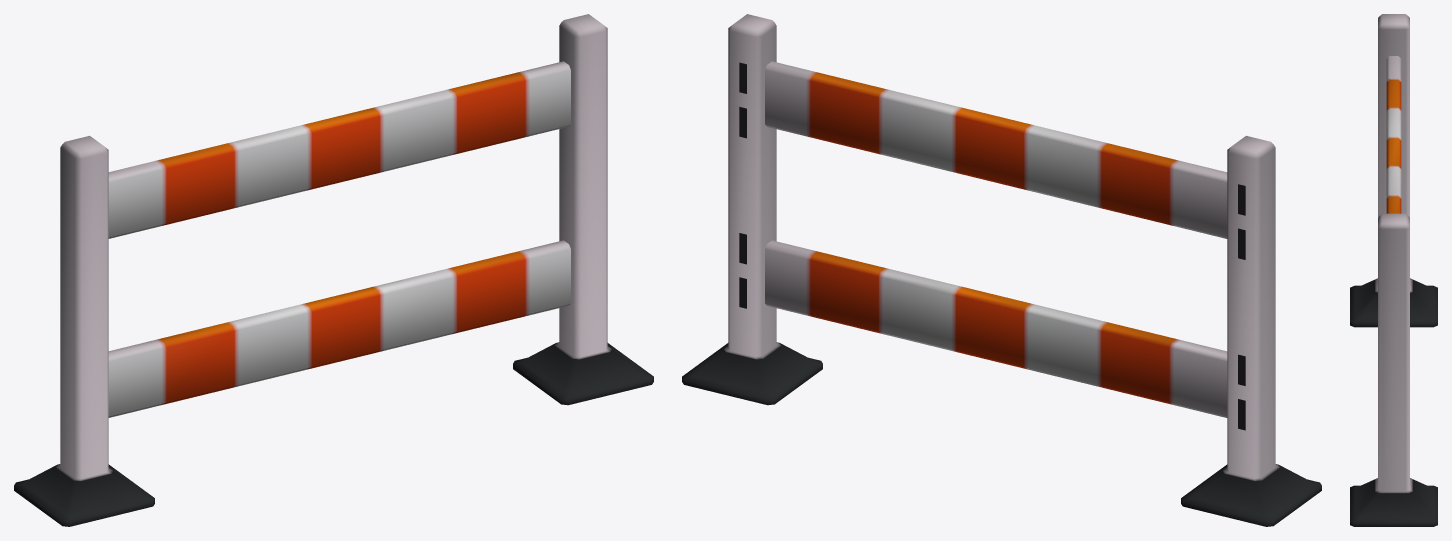
Rendered from TCP2_Demo_RoadWorksBarrier02.fbx.
The picture shows the model from 3 angles, left to right: view 1: azimuth 30°, elevation 25°; view 2: azimuth 150°, elevation 25°; view 3: azimuth 270°, elevation 25°; orthographic projection. The views are drawn at different scales.
Visible parts, largest first — view 1: RoadWorksBarrier02_reconstructed; view 2: RoadWorksBarrier02_reconstructed; view 3: RoadWorksBarrier02_reconstructed.
Part boxes in pixels (x1,y1,x2,y2): RoadWorksBarrier02_reconstructed: (14,14,653,526); RoadWorksBarrier02_reconstructed: (682,14,1321,526); RoadWorksBarrier02_reconstructed: (1350,14,1437,526).
Size of the model in its own units: 2.72 by 1.55 by 0.4257.
